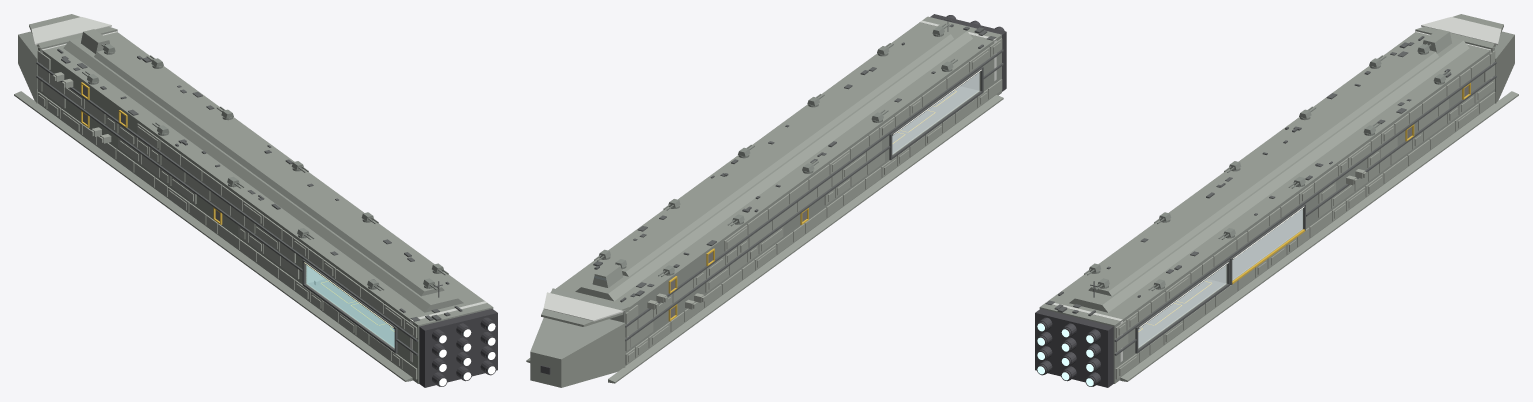
The model's file is ship_XL_v1.glb.
3 views of the same model, side by side, from view 1: azimuth 30°, elevation 25°; view 2: azimuth 150°, elevation 25°; view 3: azimuth 330°, elevation 25° (orthographic).
Visible parts, largest first — view 1: XL_Hull-col, XL_Armor, XL_Engines, XL_Trim, XL_HangarShield_Port, XL_Accent, XL_Decks-col, XL_Details, XL_EngineGlow, XL_Hazard; view 2: XL_Hull-col, XL_Armor, XL_Trim, XL_HangarShield_Port, XL_Decks-col, XL_Accent, XL_Details, XL_Engines, XL_Hazard; view 3: XL_Hull-col, XL_Armor, XL_Engines, XL_Trim, XL_HangarShield_Starboard, XL_CargoBayShield, XL_Decks-col, XL_CargoBayDoor-col, XL_Accent, XL_Details, XL_EngineGlow, XL_Hazard.
Boxes of the visible parts, <box> form: XL_Hull-col: <box>14,14,493,383</box>; XL_Armor: <box>37,50,417,379</box>; XL_Engines: <box>419,309,497,387</box>; XL_Trim: <box>36,62,418,355</box>; XL_HangarShield_Port: <box>306,265,394,347</box>; XL_Accent: <box>31,17,487,362</box>; XL_Decks-col: <box>308,279,394,346</box>; XL_Details: <box>57,48,462,321</box>; XL_EngineGlow: <box>439,323,495,386</box>; XL_Hazard: <box>81,82,394,331</box>; XL_Hull-col: <box>526,16,1003,387</box>; XL_Armor: <box>625,38,1002,364</box>; XL_Trim: <box>625,49,1003,341</box>; XL_HangarShield_Port: <box>892,72,979,154</box>; XL_Decks-col: <box>892,86,977,153</box>; XL_Accent: <box>543,20,996,337</box>; XL_Details: <box>593,15,996,302</box>; XL_Engines: <box>540,14,1006,374</box>; XL_Hazard: <box>668,90,956,321</box>; XL_Hull-col: <box>1039,14,1518,383</box>; XL_Armor: <box>1115,50,1495,379</box>; XL_Engines: <box>1035,309,1113,387</box>; XL_Trim: <box>1114,62,1496,355</box>; XL_HangarShield_Starboard: <box>1138,265,1226,347</box>; XL_CargoBayShield: <box>1232,209,1302,280</box>; XL_Decks-col: <box>1138,279,1224,346</box>; XL_CargoBayDoor-col: <box>1232,209,1302,279</box>; XL_Accent: <box>1045,17,1501,362</box>; XL_Details: <box>1045,36,1451,316</box>; XL_EngineGlow: <box>1037,323,1093,386</box>; XL_Hazard: <box>1138,83,1470,331</box>.
Bounding box in the file's own units: 28.3 × 25.4 × 230.
